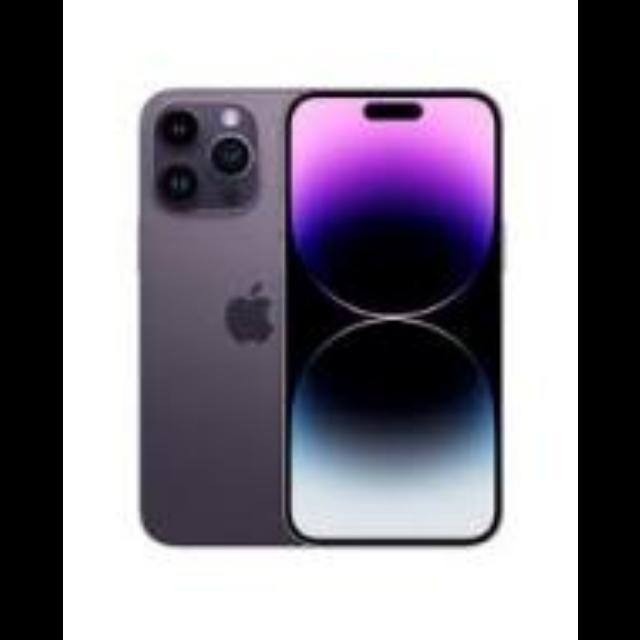phone: (286, 89, 505, 549)
